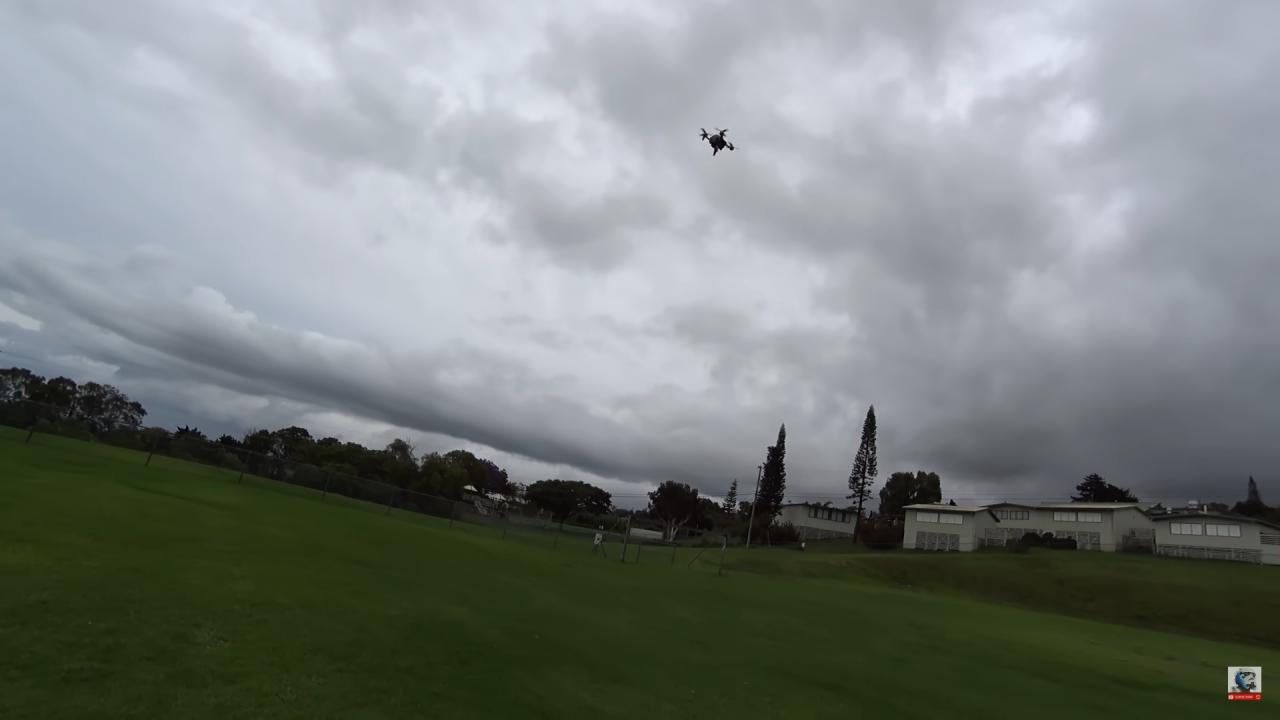Drone: (683, 112, 752, 170)
